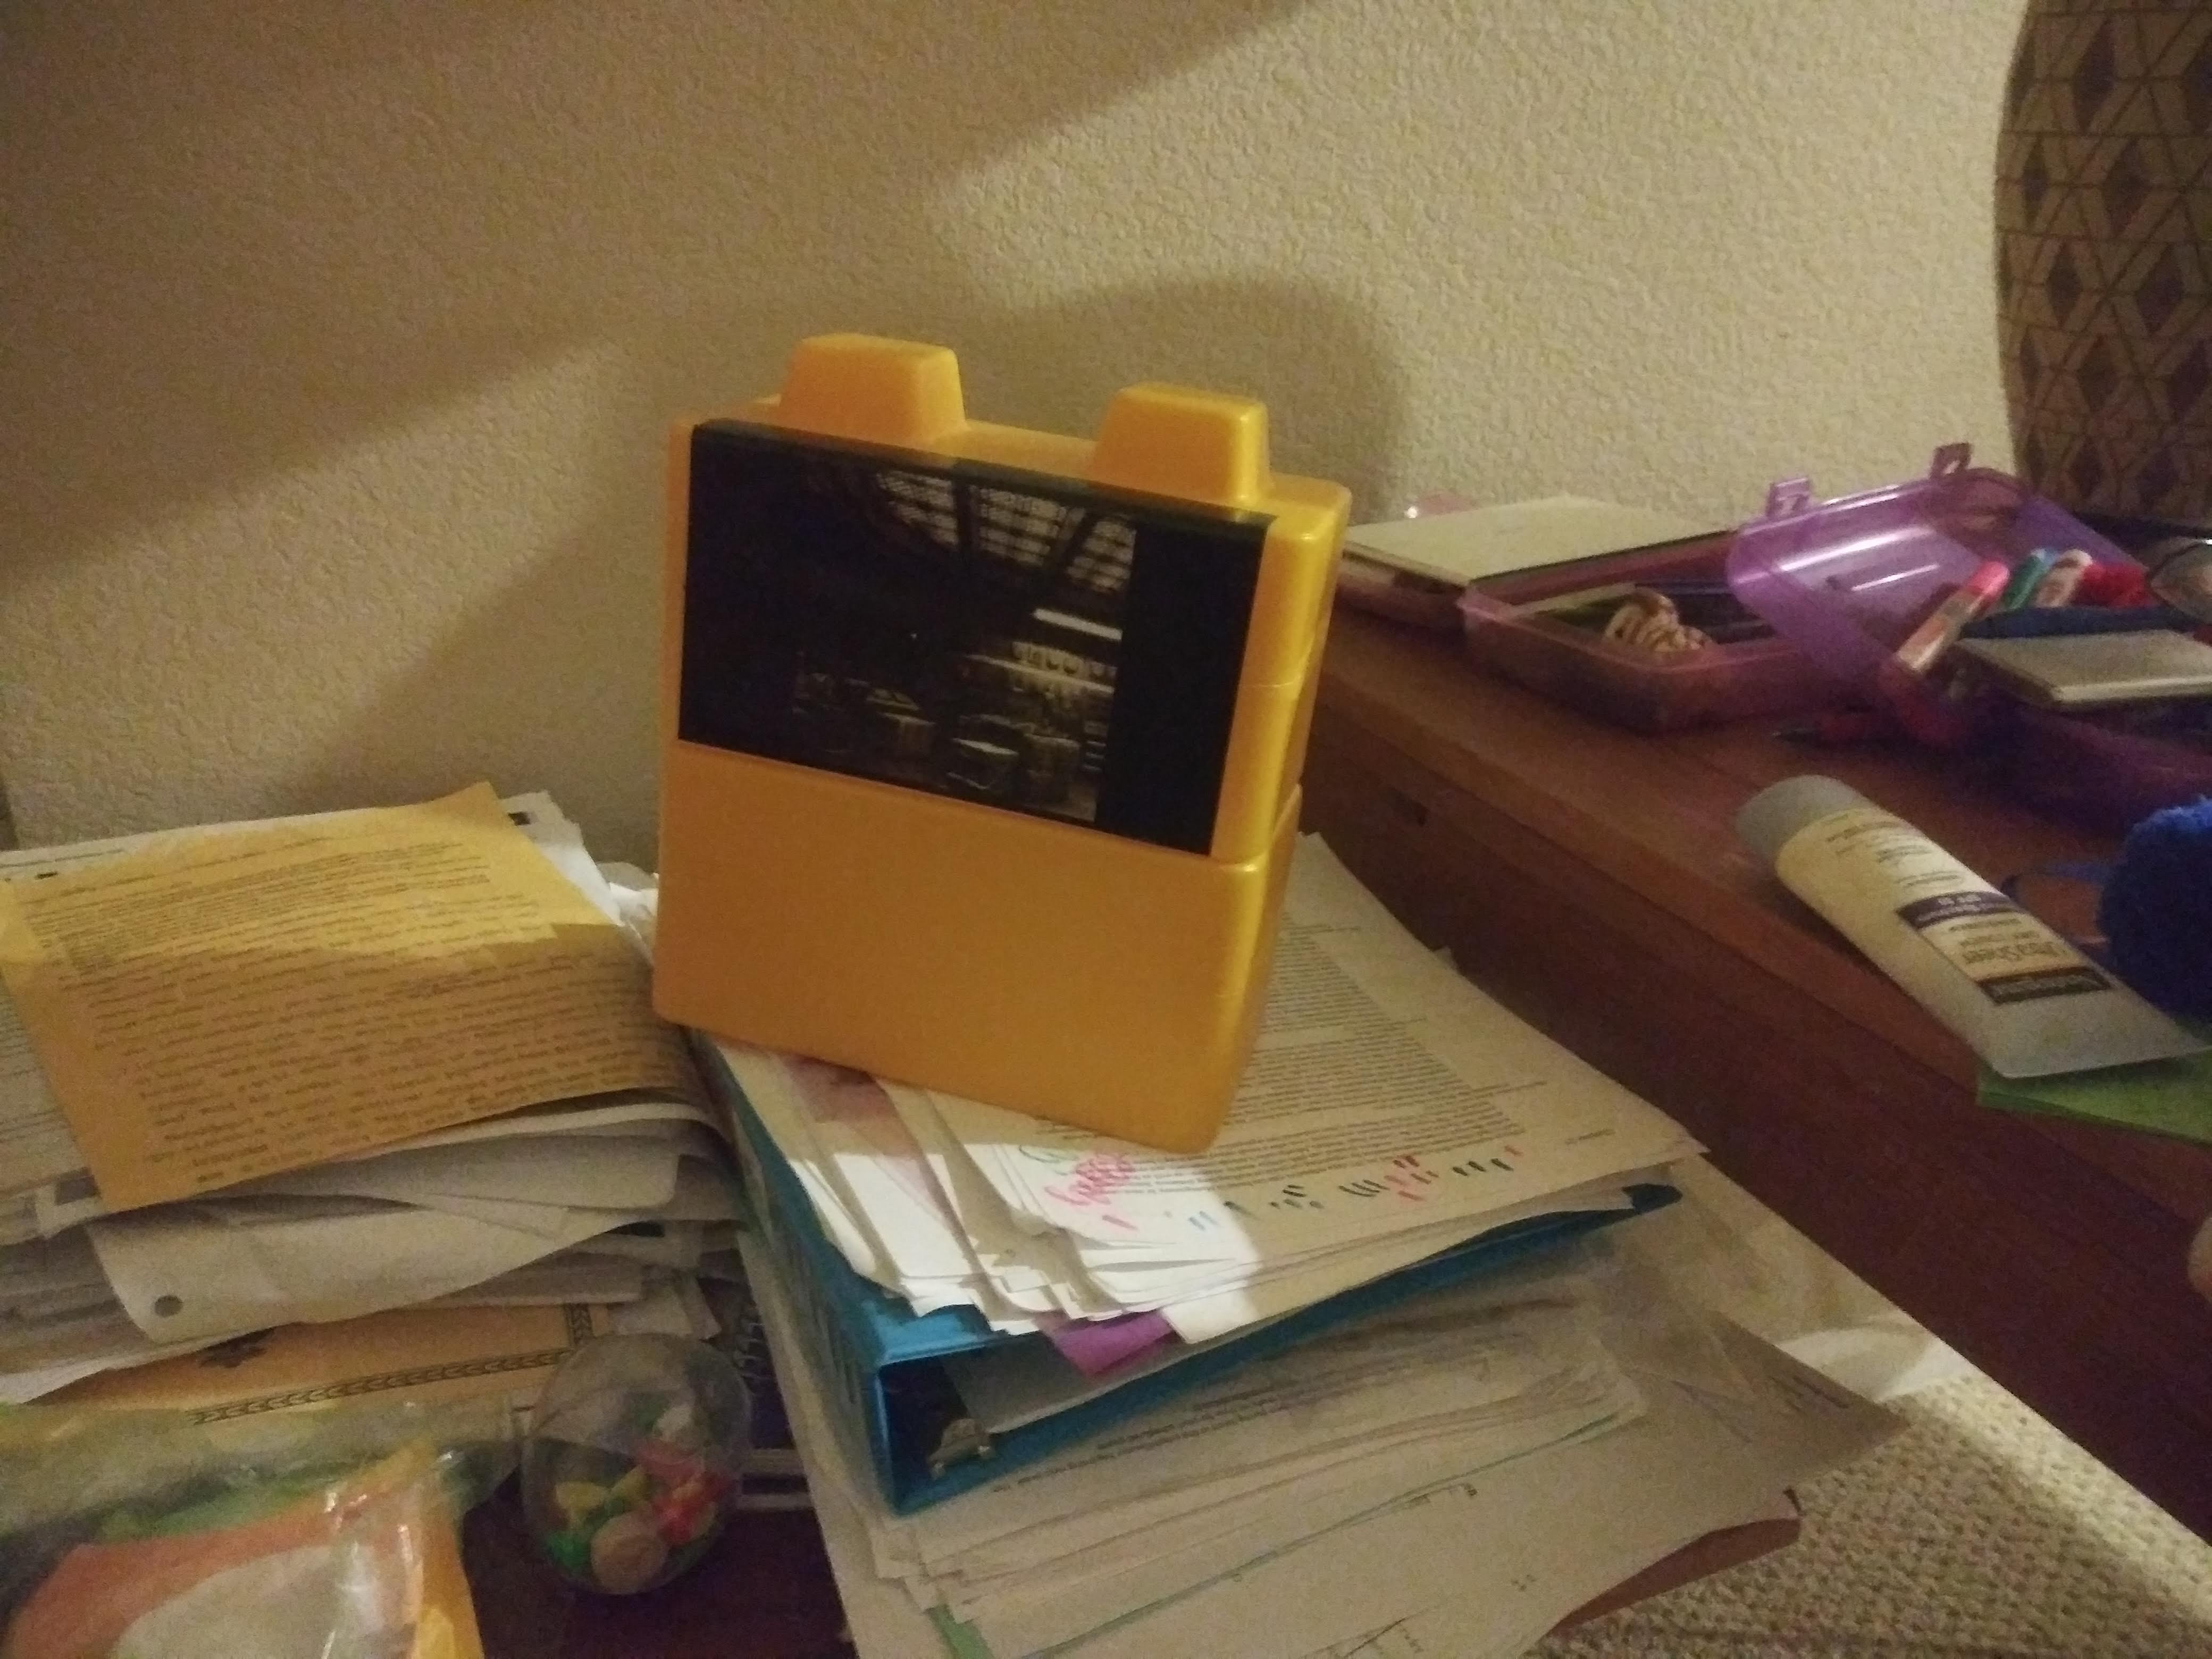skystone: (681, 380, 1292, 826)
stone: (658, 770, 1256, 1126)
